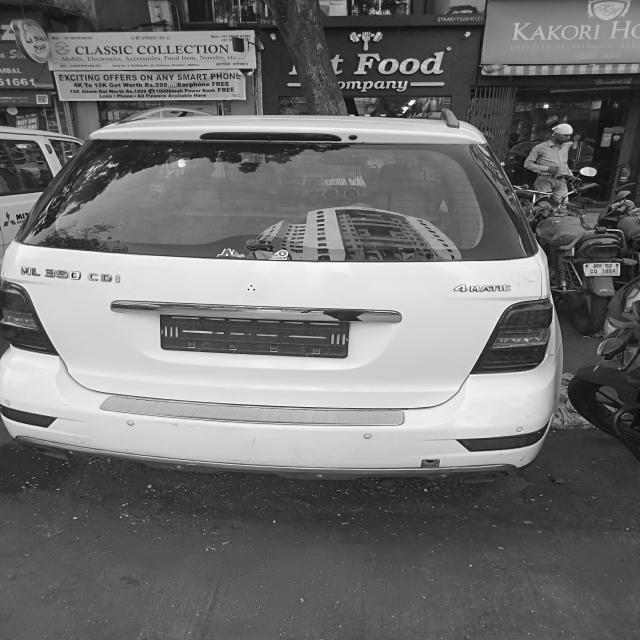car: (0, 117, 568, 503)
